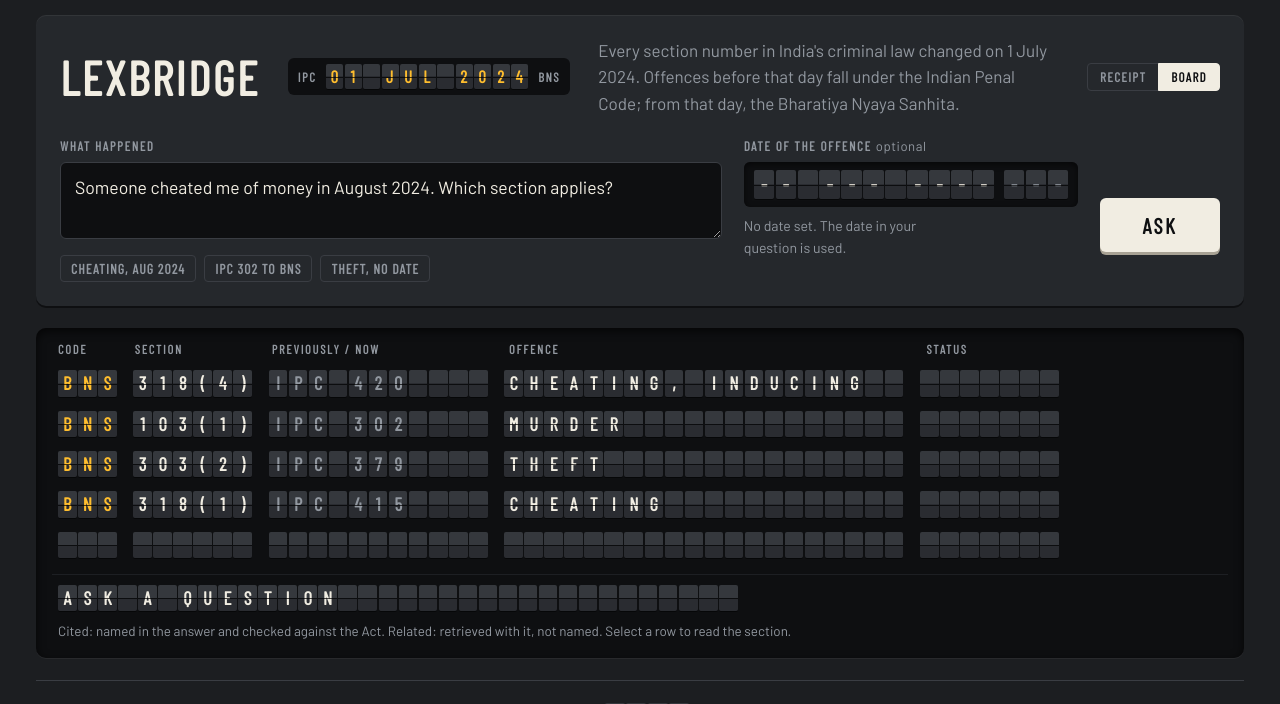
Test: board view › shows the answer, the board rows and the cited section's text
The image size is (1280, 704).
Expected: the button "Ask" is shown, [1100, 198, 1220, 252]
Replace the text in the text box labelled "What happened" with "Someone cheated me of money in August 2024." at x=391, y=200, box [60, 162, 722, 239]
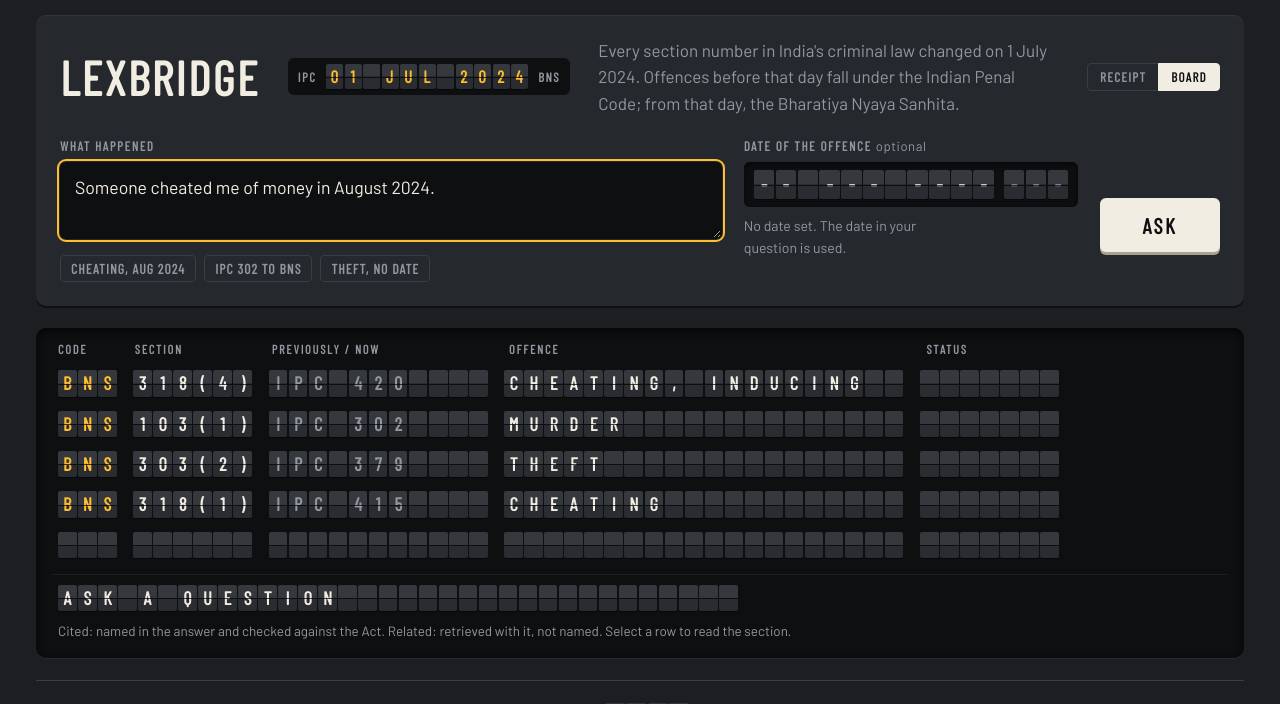
Click the button "Ask" at x=1160, y=225, box [1100, 198, 1220, 252]
(page scrolled)
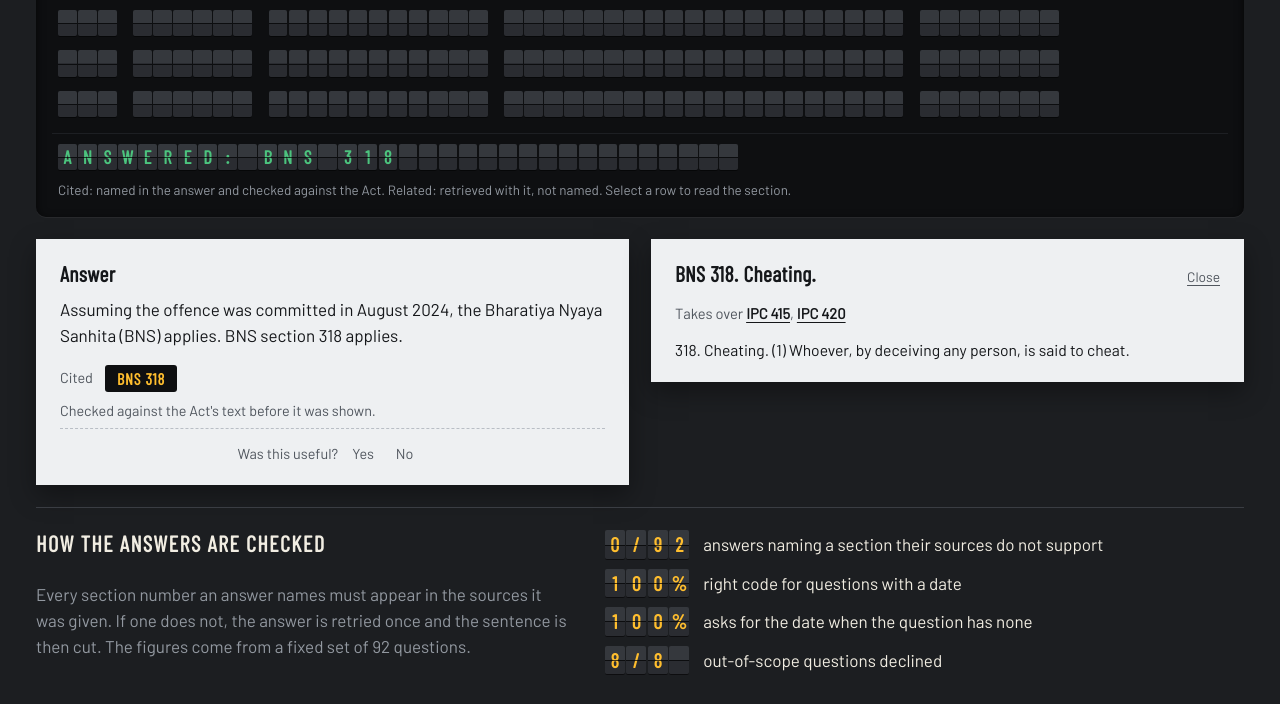
Result: the text "BNS section 318 applies" is shown at [60, 299, 602, 345]
Result: the text "Whoever, by deceiving any person" is shown at [675, 340, 1130, 359]
